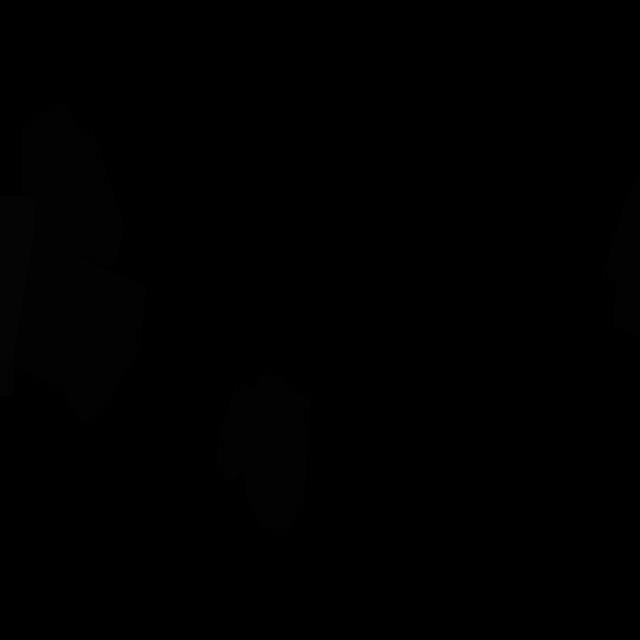cardboard: (12, 237, 146, 425), (20, 101, 124, 269), (216, 373, 311, 531), (601, 175, 640, 340)
soft_plastic: (0, 195, 36, 397)
